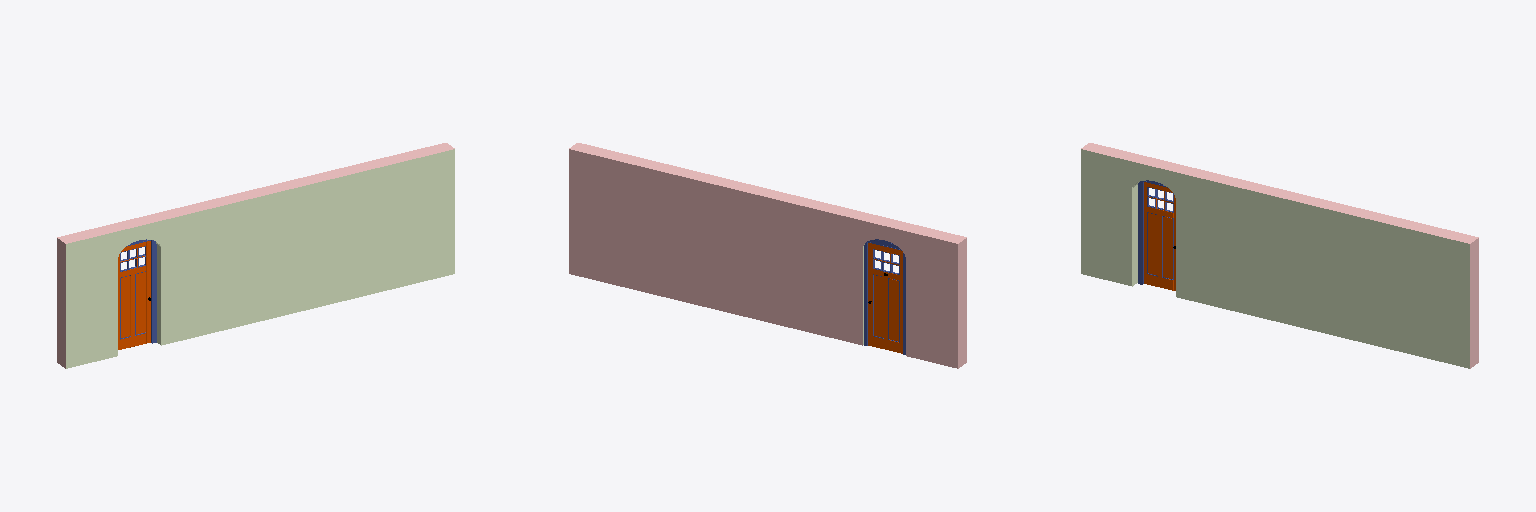
The picture shows the model from 3 angles: view 1: azimuth 30°, elevation 25°; view 2: azimuth 150°, elevation 25°; view 3: azimuth 330°, elevation 25°; orthographic projection.
Parts seen in each view (by area): view 1: polySurface533; view 2: polySurface533; view 3: polySurface533.
Boxes of the visible parts, x1,y1,x2,y2 form: polySurface533: [57, 143, 454, 368]; polySurface533: [569, 143, 966, 368]; polySurface533: [1081, 143, 1478, 368].
Bounding box in the file's own units: 21.66 × 6.67 × 0.8772.
5 materials, 4 textured.